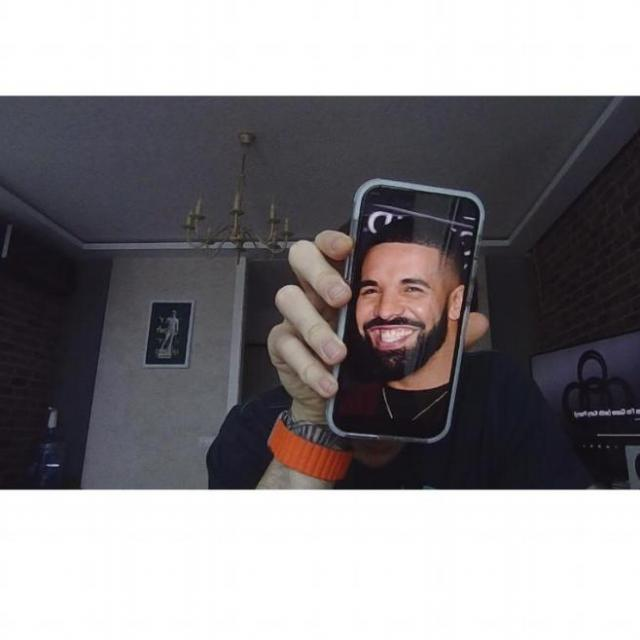device: (318, 178, 486, 443)
